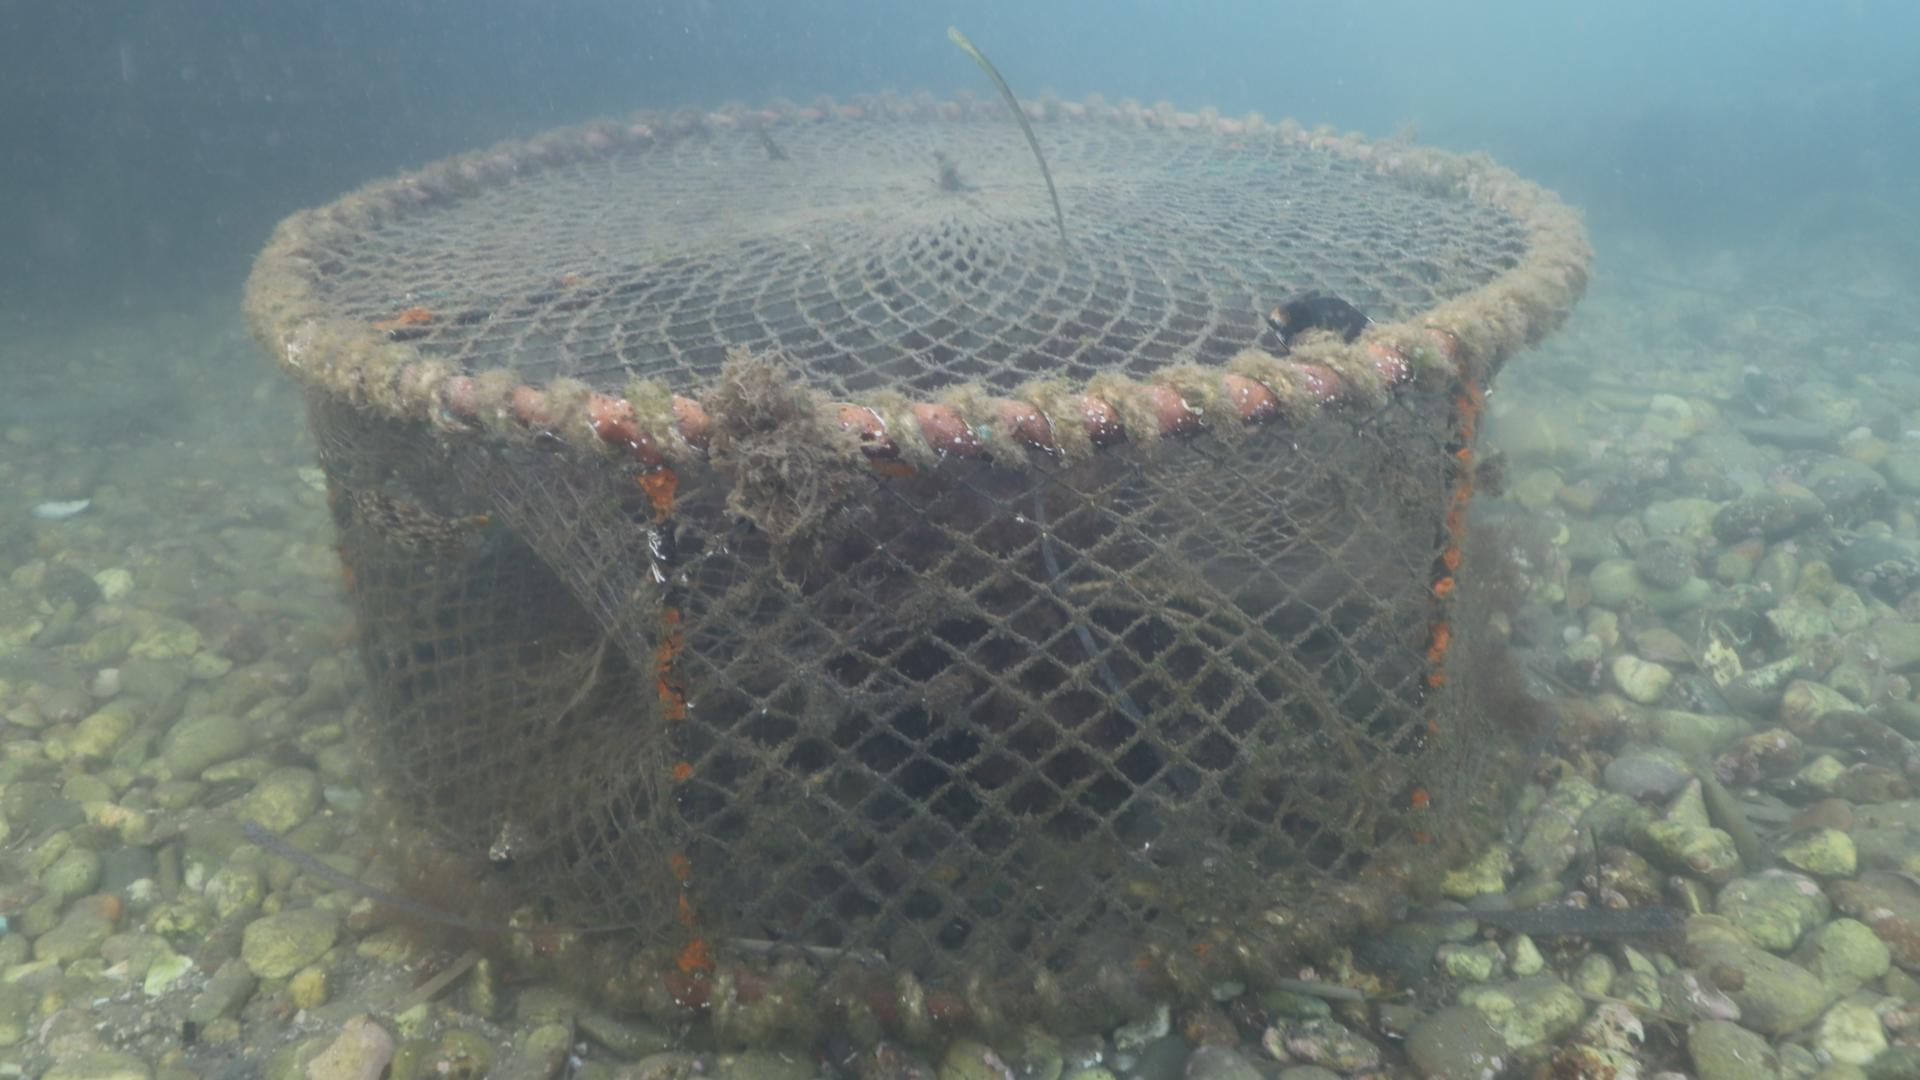circular fish trap: (241, 95, 1600, 1043)
